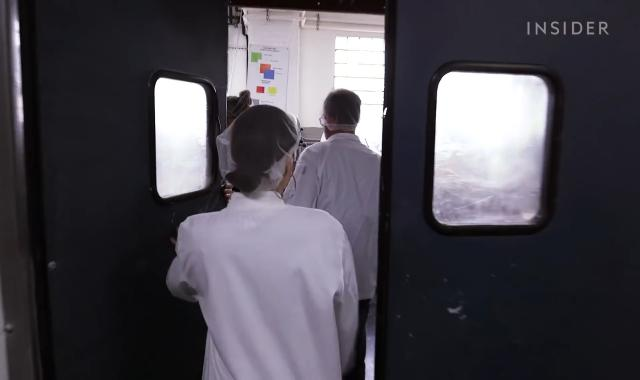hairnet: (215, 103, 304, 192), (319, 88, 363, 130)
